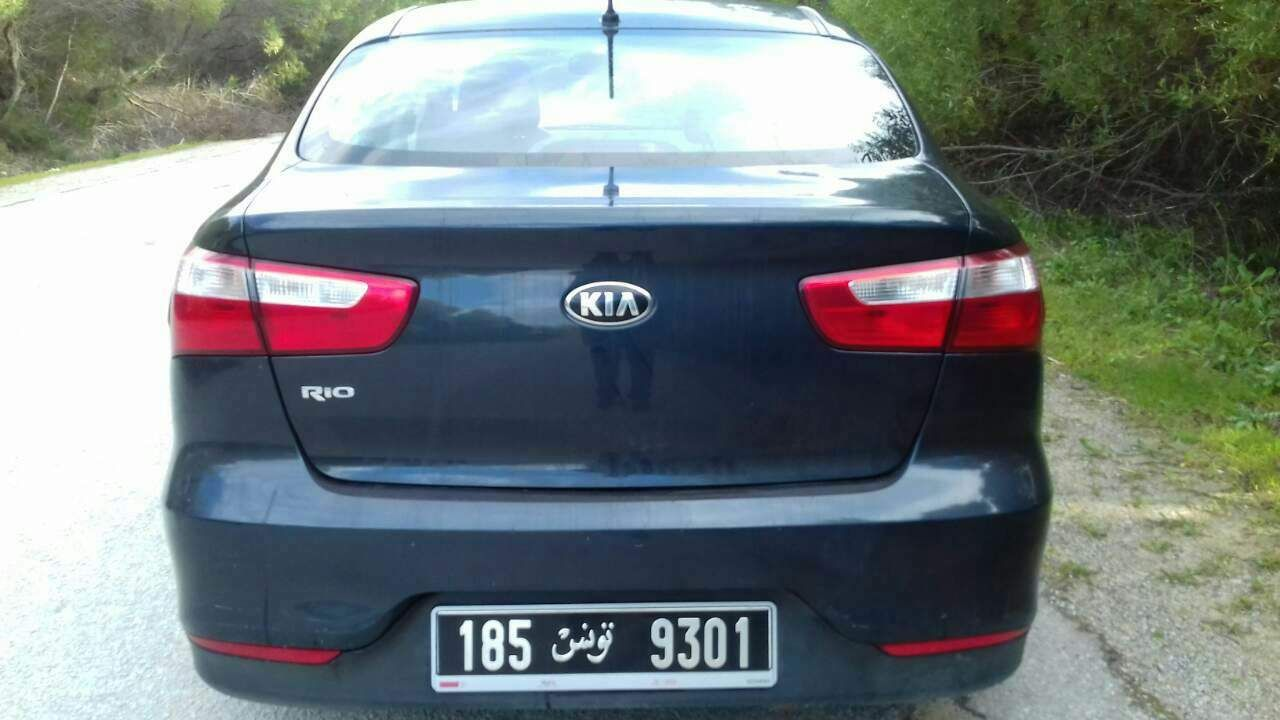LP: (429, 600, 780, 696)
